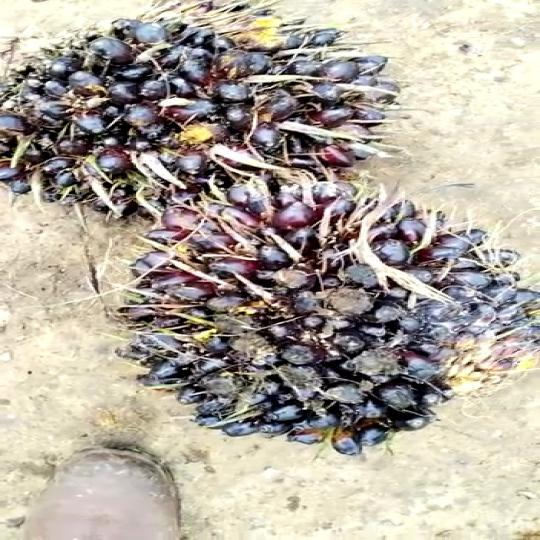mentah: (109, 176, 540, 461), (0, 0, 403, 205)
